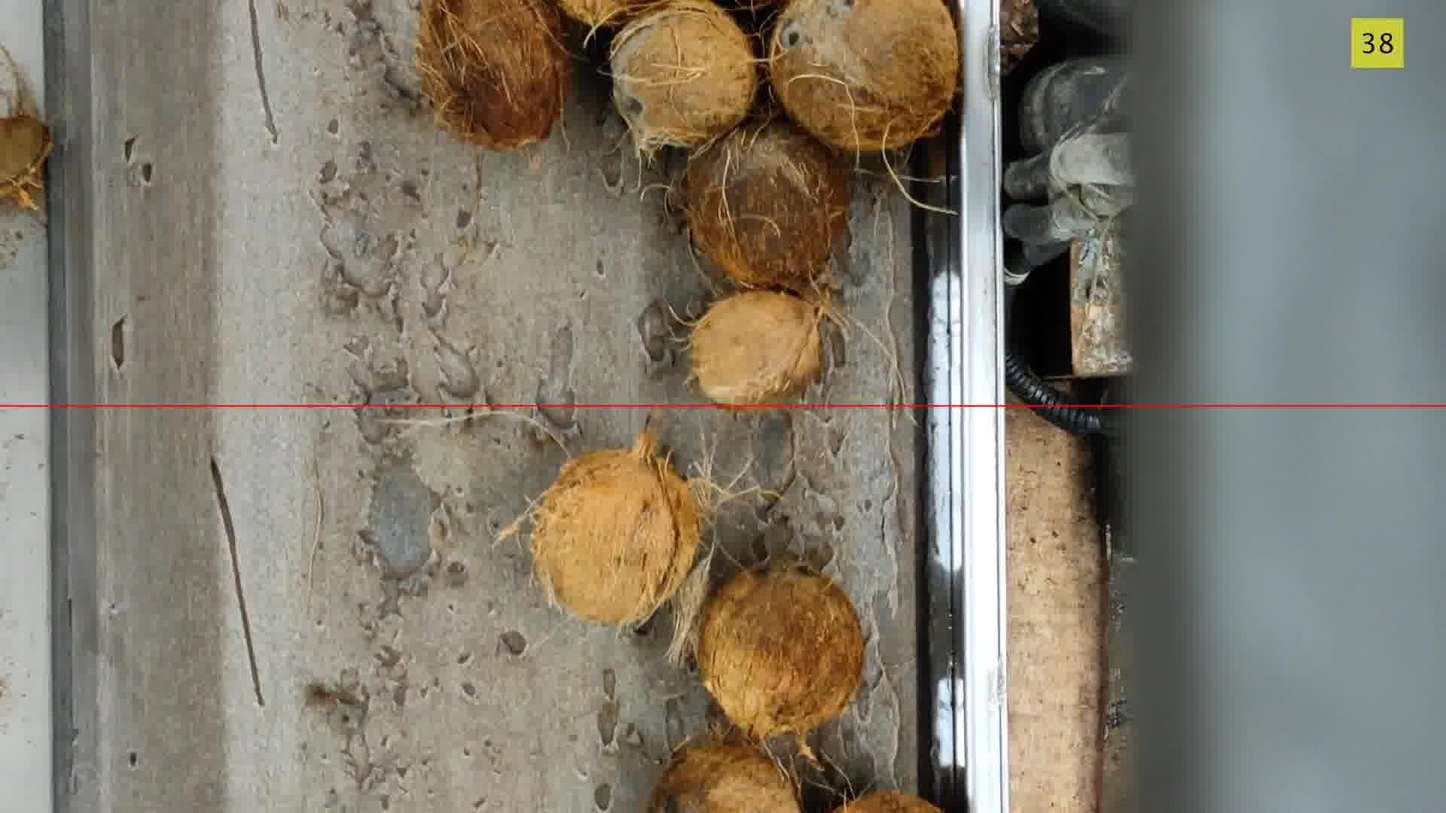Coconut: (526, 421, 708, 626), (695, 561, 865, 755), (683, 116, 853, 292), (768, 0, 960, 152), (609, 0, 761, 157), (414, 0, 572, 151), (680, 287, 840, 409), (643, 742, 801, 812), (0, 114, 53, 209), (557, 0, 662, 36), (833, 790, 941, 812)
